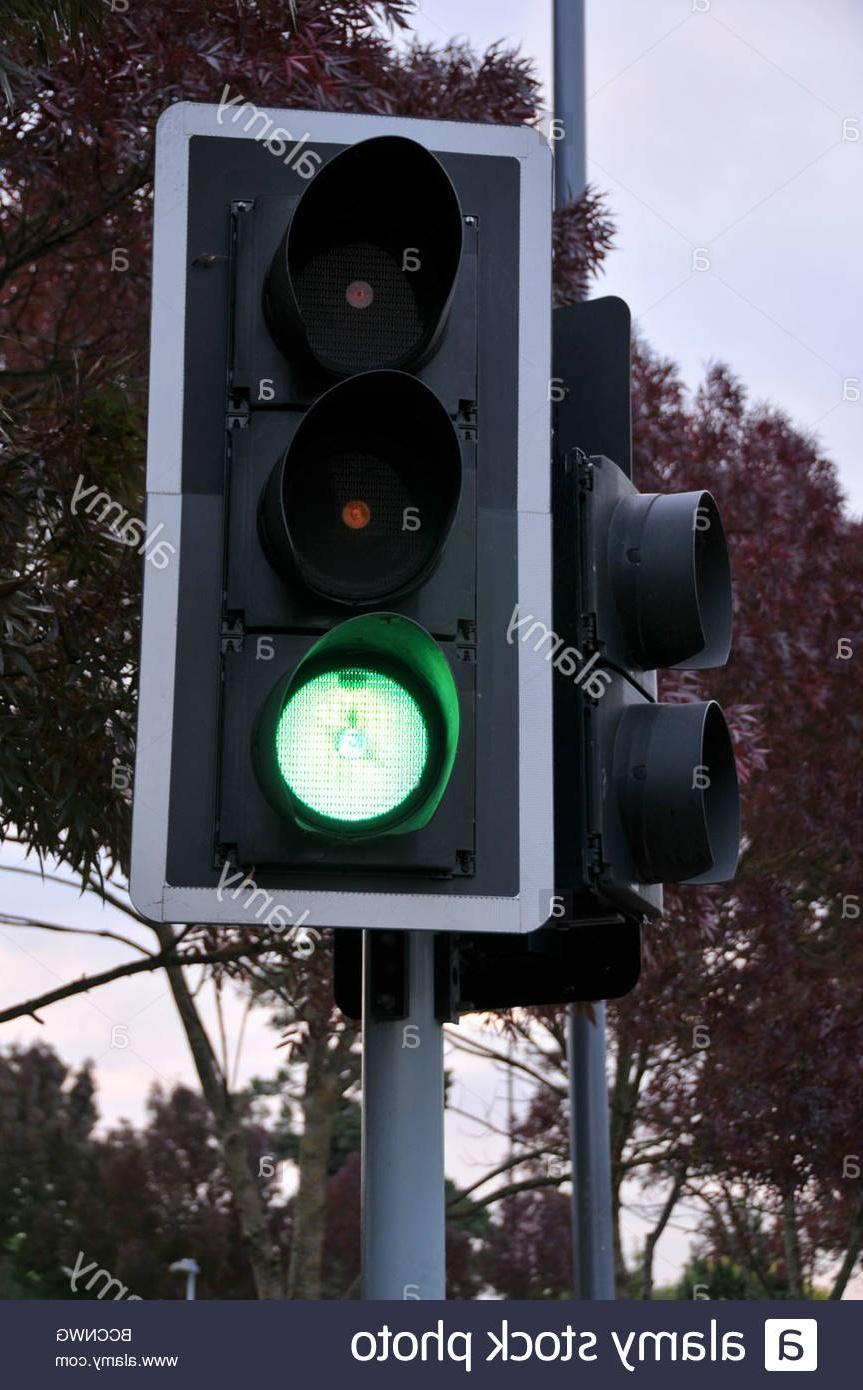green: (147, 93, 573, 910)
